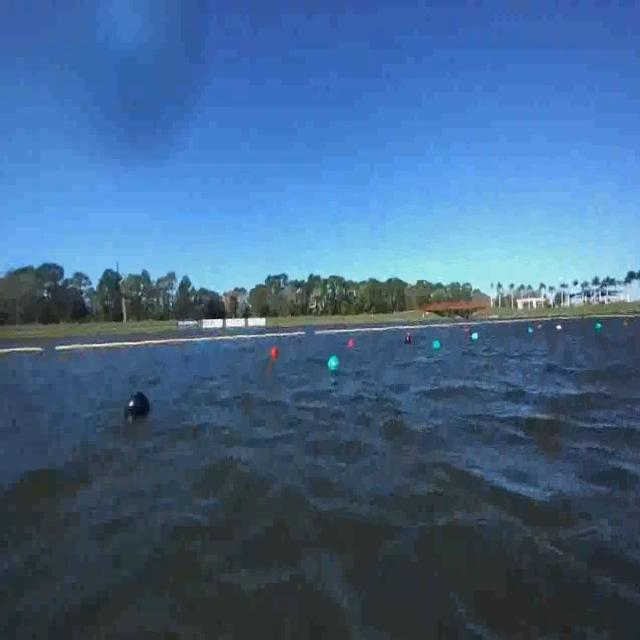black-buoy: (118, 378, 166, 448)
green-buoy: (327, 354, 339, 372), (433, 340, 441, 352), (593, 324, 601, 334)
red-buoy: (264, 341, 288, 364)
